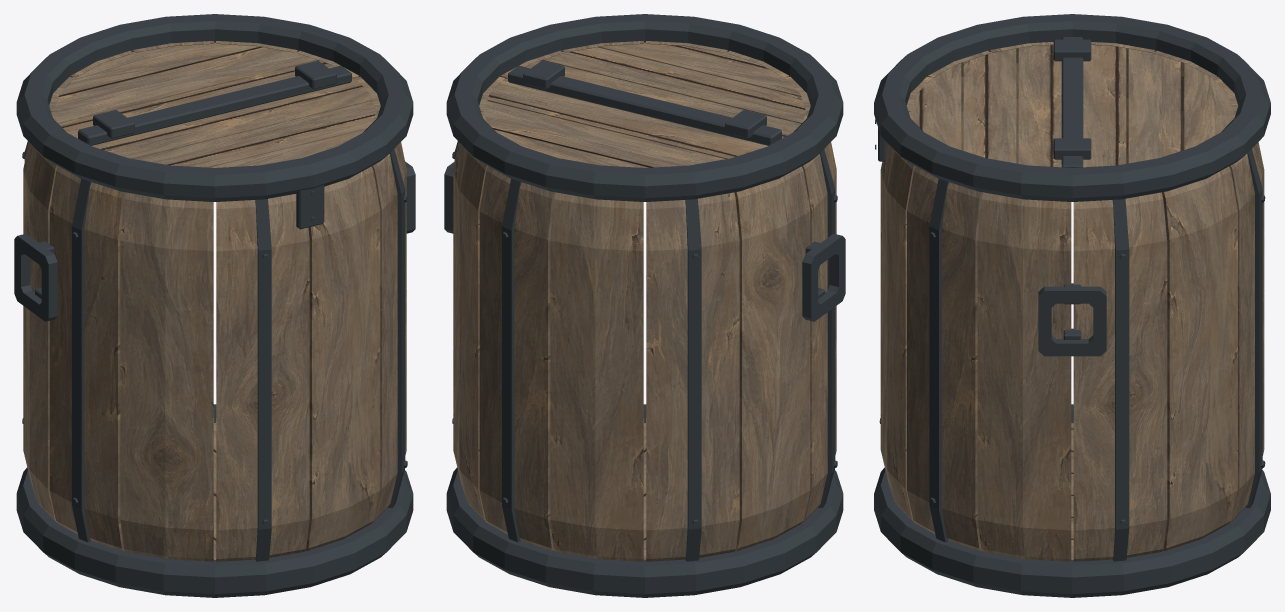
The model's file is aether_barrel_shape_endfield.fbx.
3 views of the same model, side by side, from view 1: azimuth 30°, elevation 25°; view 2: azimuth 150°, elevation 25°; view 3: azimuth 270°, elevation 25° (orthographic).
Parts seen in each view (by area): view 1: aether_barrel_shape_endfield; view 2: aether_barrel_shape_endfield; view 3: aether_barrel_shape_endfield.
Part boxes in pixels (x1,y1,x2,y2): aether_barrel_shape_endfield: (14,14,415,597); aether_barrel_shape_endfield: (444,14,845,597); aether_barrel_shape_endfield: (874,14,1270,597).
Bounding box in the file's own units: 96.4 × 106 × 90.2.
Materials: 2 (1 with a texture image).
